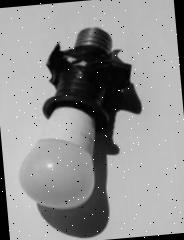lightbulb: (6, 22, 152, 240), (15, 132, 98, 212)
